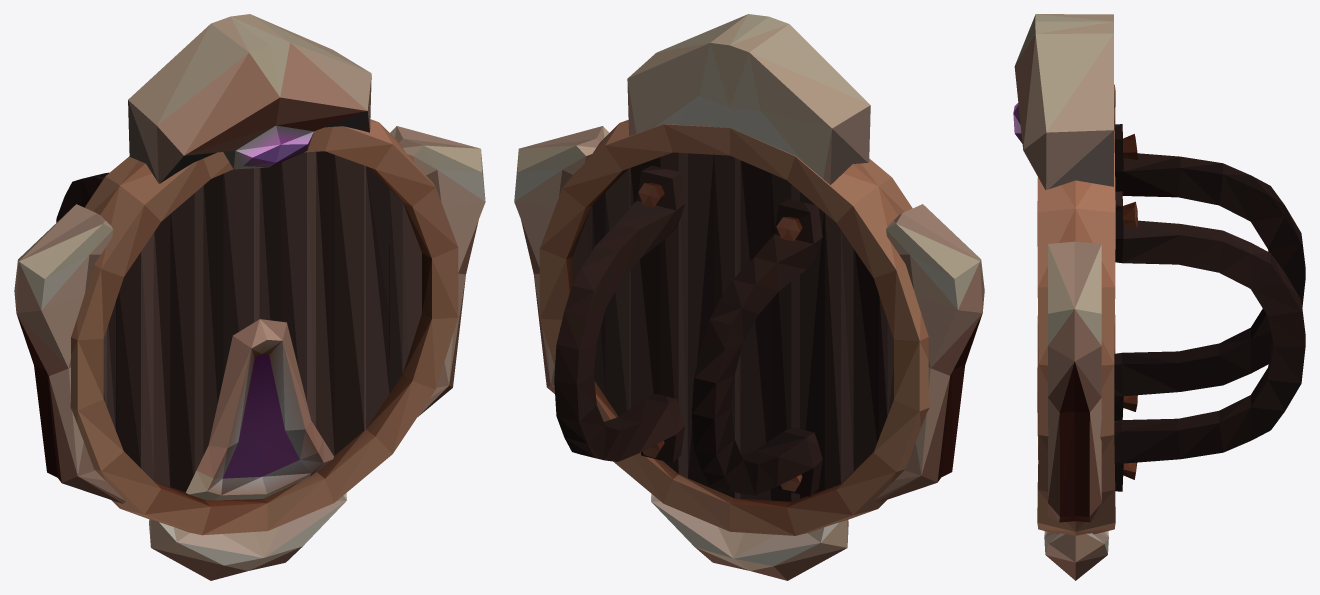
File: weapon_shield_bronze_2.fbx
The picture shows the model from 3 angles, left to right: view 1: azimuth 30°, elevation 25°; view 2: azimuth 150°, elevation 25°; view 3: azimuth 270°, elevation 25°; orthographic projection.
Parts seen in each view (by area): view 1: weapon_shield_bronze_2; view 2: weapon_shield_bronze_2; view 3: weapon_shield_bronze_2.
Part boxes in pixels (left/top/right/bottom): weapon_shield_bronze_2: left=14, top=14, right=485, bottom=580; weapon_shield_bronze_2: left=514, top=14, right=984, bottom=580; weapon_shield_bronze_2: left=1013, top=14, right=1305, bottom=580.
Bounding box in the file's own units: 0.803 × 0.8882 × 0.4345.
